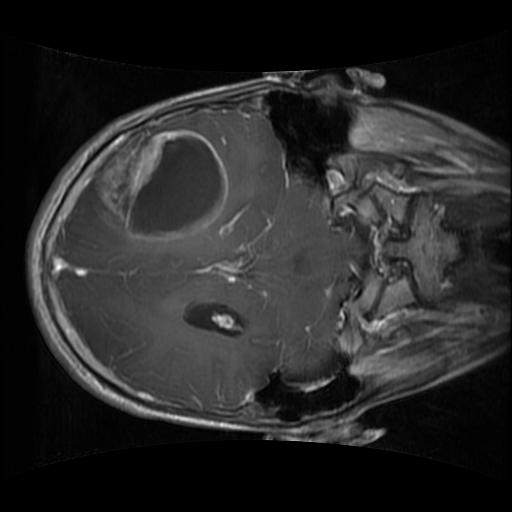glioma: (90, 128, 229, 242)
